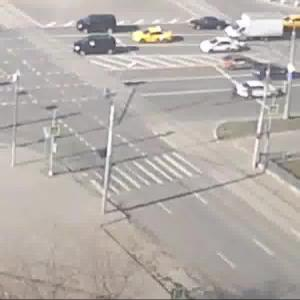car: (239, 14, 287, 39), (132, 27, 176, 49), (209, 37, 258, 55), (189, 17, 233, 34), (262, 64, 300, 82), (275, 9, 300, 34), (74, 17, 115, 32), (243, 80, 277, 97), (76, 38, 116, 52), (227, 55, 258, 70)
